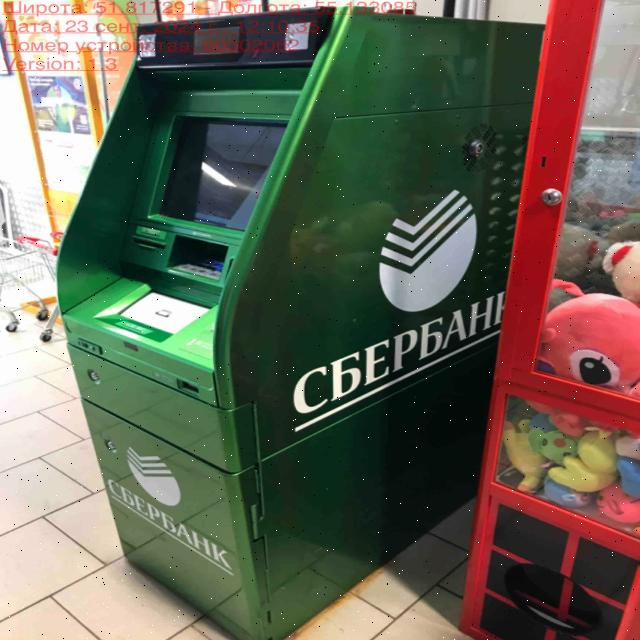bank: (55, 6, 555, 640)
